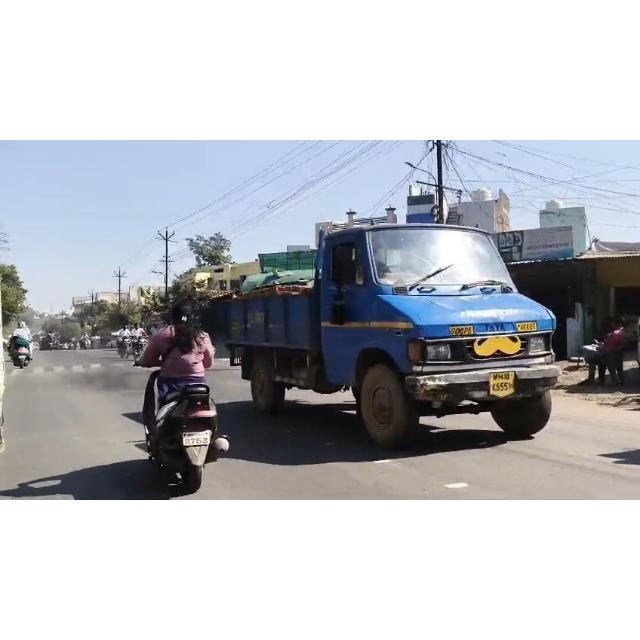truck: (204, 222, 596, 454)
